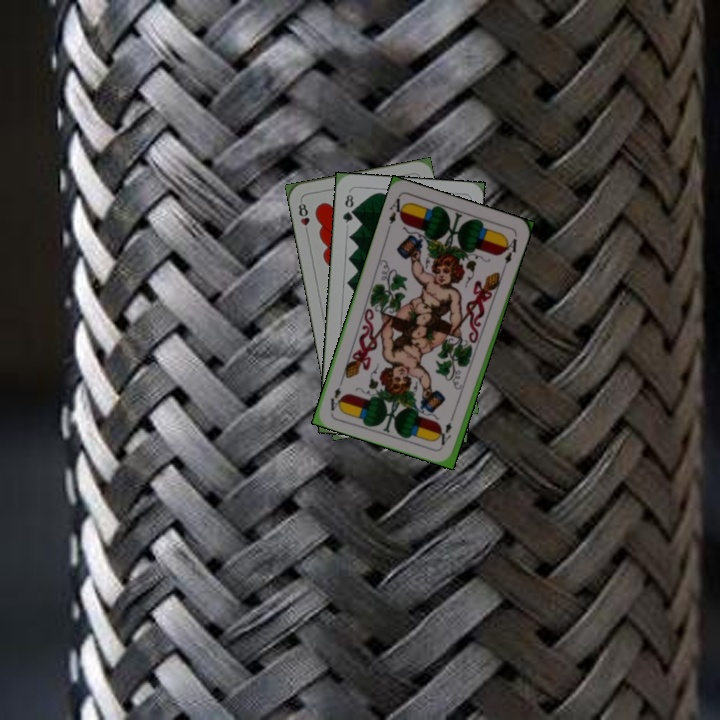EA: (384, 194, 408, 233), (437, 410, 457, 448)
G8: (338, 190, 357, 225)
H8: (294, 197, 312, 237)
